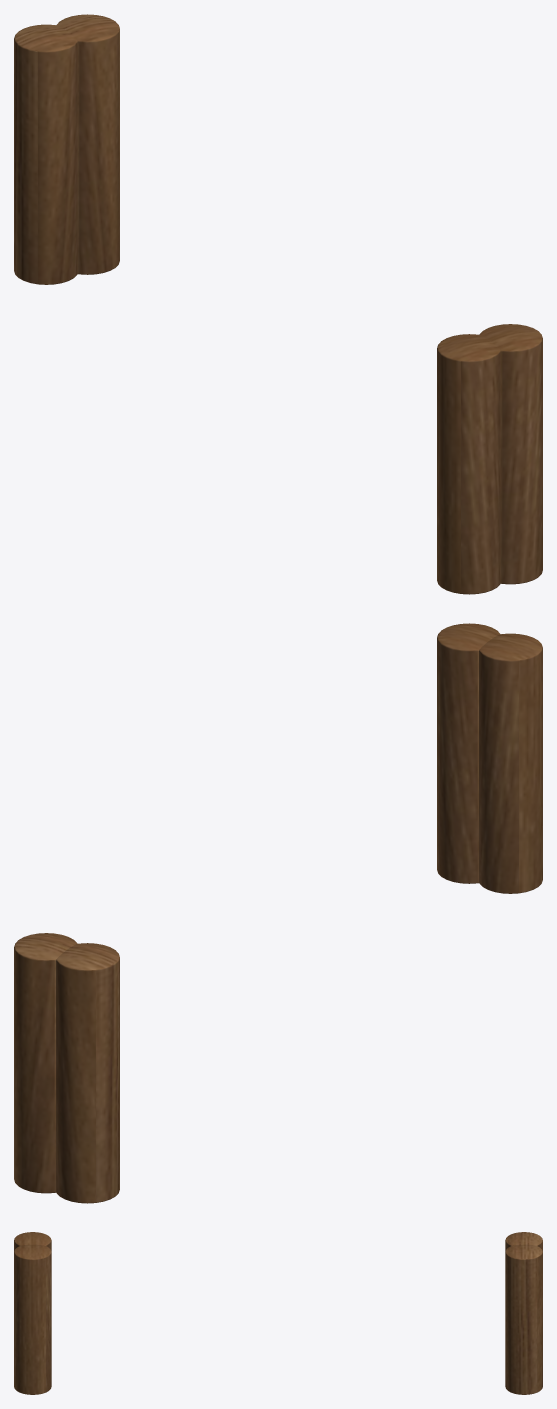
Rendered from legs.gltf.
The picture shows the model from 3 angles, top to bottom: view 1: azimuth 30°, elevation 25°; view 2: azimuth 150°, elevation 25°; view 3: azimuth 270°, elevation 25°; orthographic projection. The views are drawn at different scales.
Parts seen in each view (by area): view 1: legs; view 2: legs; view 3: legs.
Boxes of the visible parts, x1=… form: legs: x1=14, y1=14, x2=542, y2=594; legs: x1=14, y1=623, x2=542, y2=1203; legs: x1=14, y1=1232, x2=542, y2=1394.
Size of the model in its own units: 0.1579 by 0.368 by 1.28.
1 material, 1 textured.
